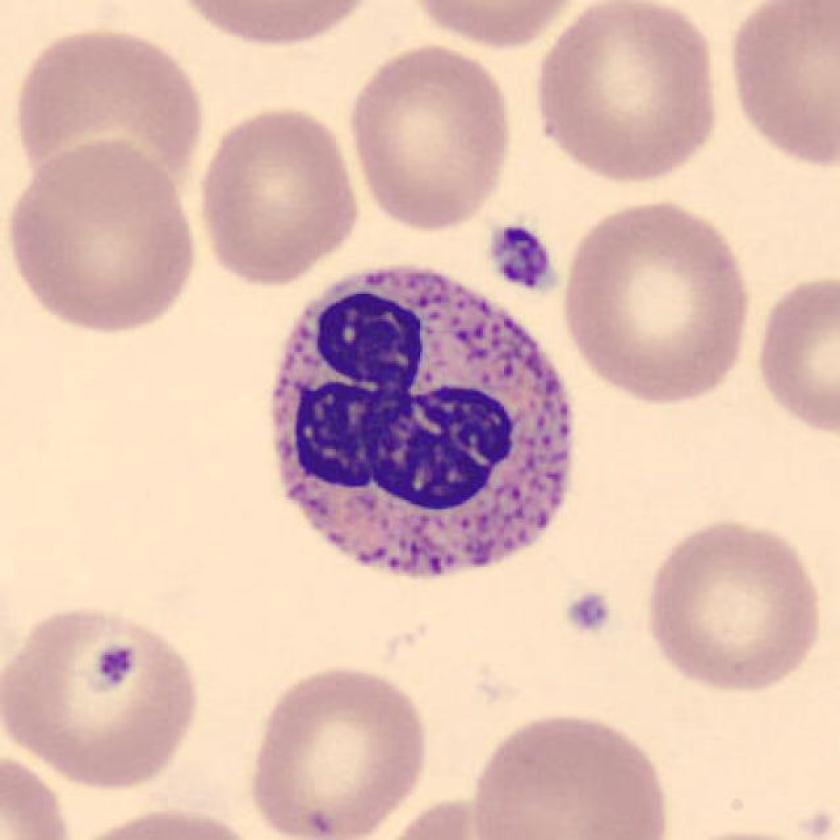neutrophil: (273, 264, 575, 575)
